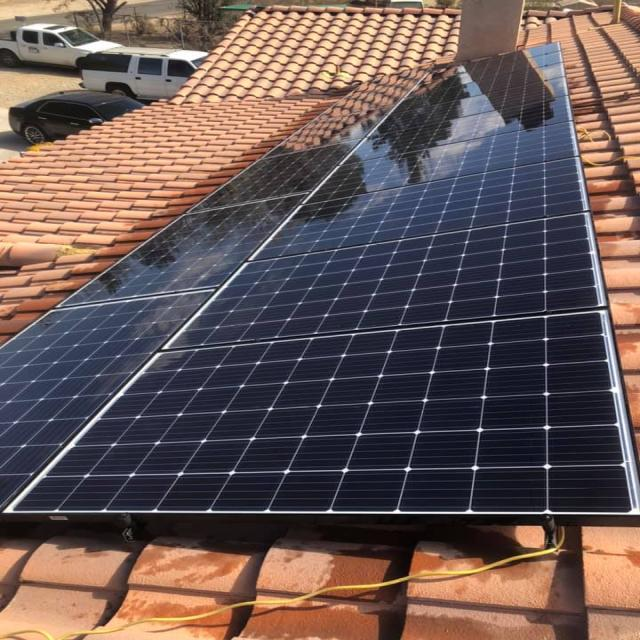clean-solar-panel: (3, 45, 637, 518)
